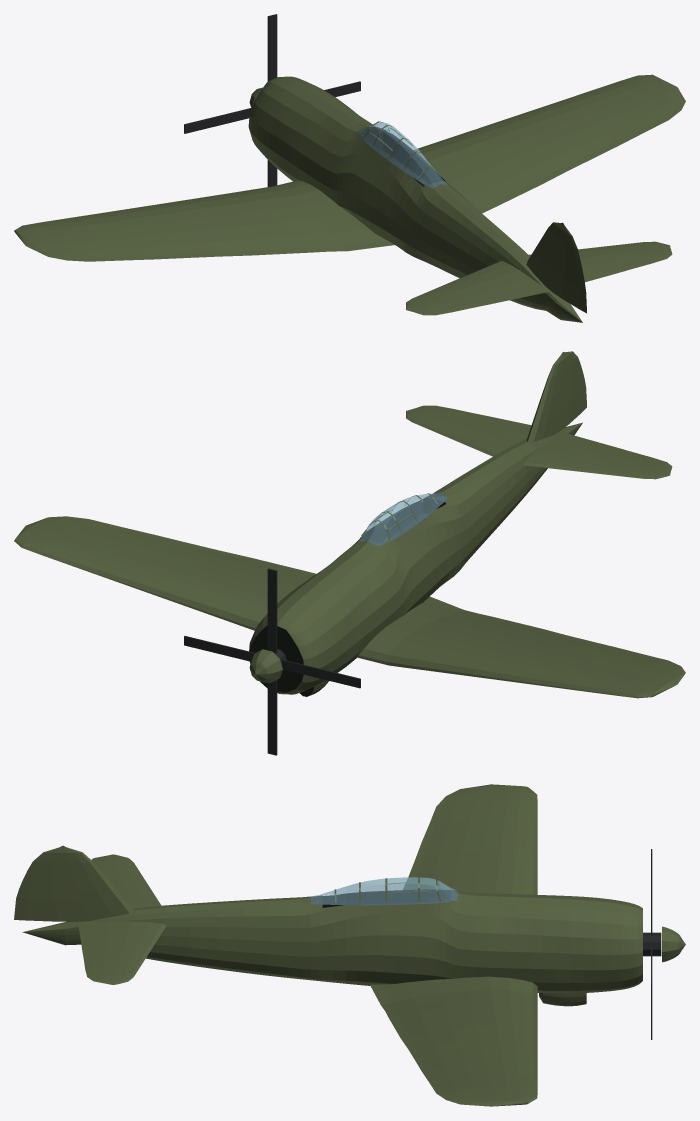
3 renders of one model, top to bottom at view 1: azimuth 30°, elevation 25°; view 2: azimuth 150°, elevation 25°; view 3: azimuth 270°, elevation 25°, orthographic.
Parts seen in each view (by area): view 1: KI84_Wing, KI84_Fuselage, KI84_Tailplane, KI84_Fin, KI84_Glass, KI84_Prop; view 2: KI84_Wing, KI84_Fuselage, KI84_Tailplane, KI84_Prop, KI84_Fin, KI84_Glass, KI84_Spinner; view 3: KI84_Fuselage, KI84_Wing, KI84_Fin, KI84_Tailplane, KI84_Glass, KI84_Spinner, KI84_ChinScoop.
Part boxes in pixels (x1,y1,x2,y2): KI84_Wing: (14, 74, 685, 261); KI84_Fuselage: (248, 76, 582, 322); KI84_Tailplane: (406, 241, 672, 315); KI84_Fin: (526, 222, 586, 313); KI84_Glass: (359, 121, 447, 188); KI84_Prop: (184, 14, 360, 186); KI84_Wing: (14, 516, 685, 698); KI84_Fuselage: (249, 422, 582, 694); KI84_Tailplane: (406, 405, 672, 479); KI84_Prop: (184, 568, 360, 755); KI84_Fin: (526, 351, 586, 442); KI84_Glass: (359, 492, 447, 545); KI84_Spinner: (249, 649, 282, 682); KI84_Fuselage: (22, 889, 642, 993); KI84_Wing: (370, 784, 537, 1106); KI84_Fin: (14, 845, 134, 921); KI84_Tailplane: (78, 854, 166, 984); KI84_Glass: (311, 877, 457, 905); KI84_Spinner: (662, 926, 685, 962); KI84_ChinScoop: (539, 993, 586, 1006).
Size of the model in its own units: 11.24 by 3.13 by 9.91.
